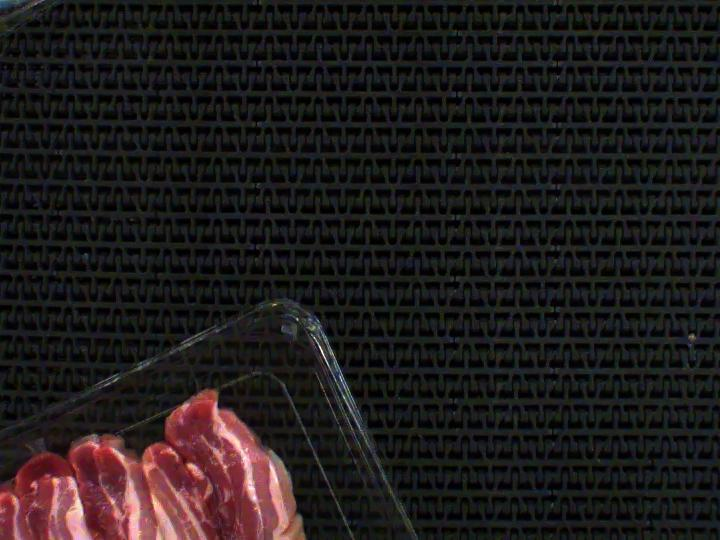packaging-error: (17, 433, 54, 457)
